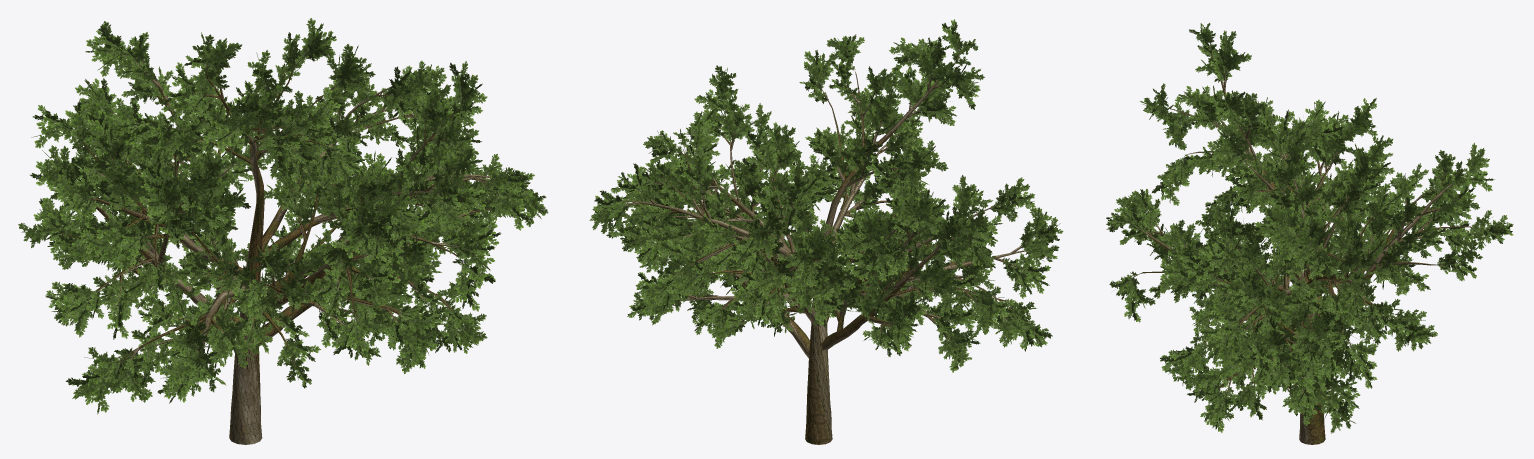
File: oak-203-lod1.glb
3 views of the same model, side by side, from view 1: azimuth 30°, elevation 25°; view 2: azimuth 150°, elevation 25°; view 3: azimuth 270°, elevation 25° (orthographic). The views are drawn at different scales.
Parts seen in each view (by area): view 1: leaves, branches; view 2: leaves, branches; view 3: leaves, branches.
Boxes of the visible parts, <box> form: leaves: <box>18,18,548,414</box>; branches: <box>62,53,515,444</box>; leaves: <box>589,19,1063,372</box>; branches: <box>612,49,1035,444</box>; leaves: <box>1106,22,1513,433</box>; branches: <box>1132,42,1486,444</box>.
Bounding box in the file's own units: 19 × 18 × 17.71.
Materials: 2 (2 with a texture image).
